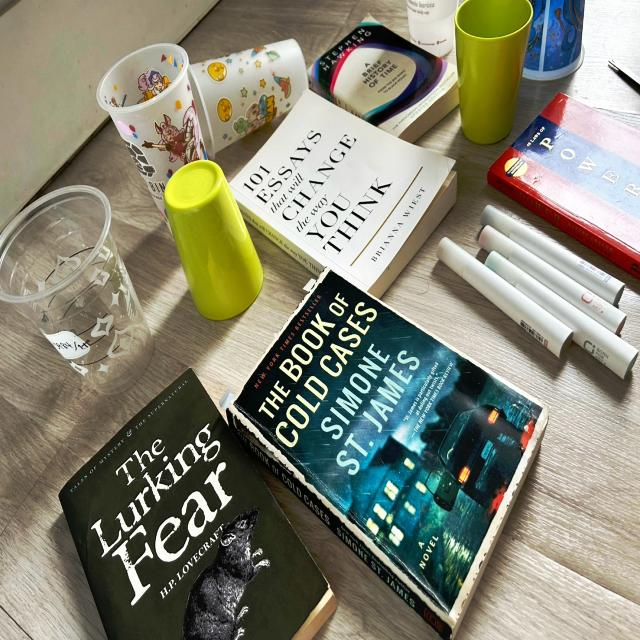Book: (227, 270, 548, 638), (59, 369, 334, 639), (230, 90, 456, 295), (487, 93, 640, 277), (309, 21, 458, 141)
HighLight Pen: (485, 251, 636, 377), (478, 225, 625, 334), (437, 239, 572, 357), (481, 206, 624, 305)
Plastic Cup: (0, 185, 153, 395), (97, 44, 207, 220), (190, 39, 307, 158), (523, 0, 585, 80), (406, 0, 460, 56)
Scissors: (608, 59, 640, 85)
WaterGlass: (165, 160, 263, 320), (455, 0, 532, 144)
